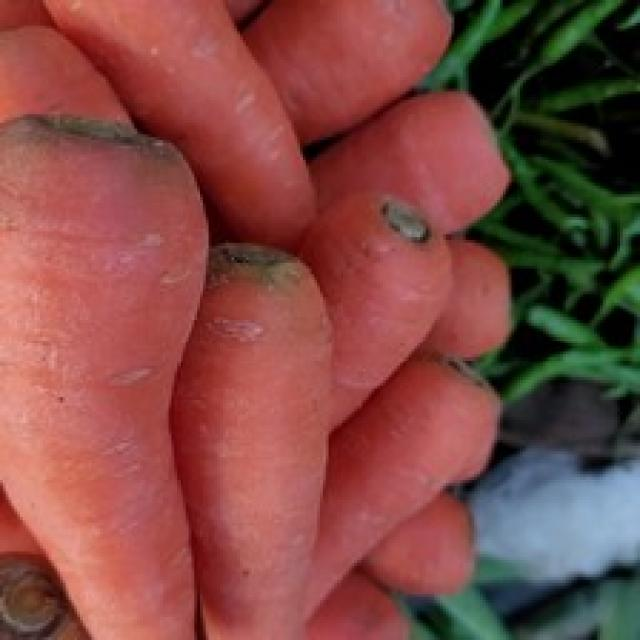Fresh_Carrot: (18, 119, 195, 640), (197, 237, 326, 640)
